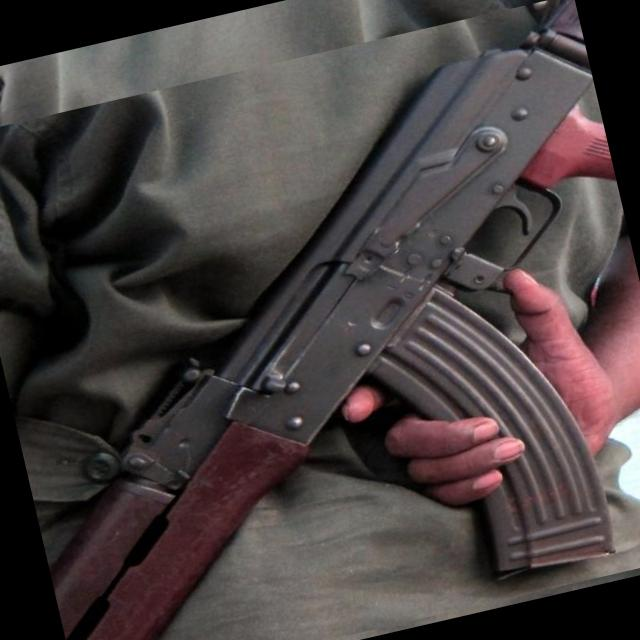Gun: (49, 0, 615, 640)
